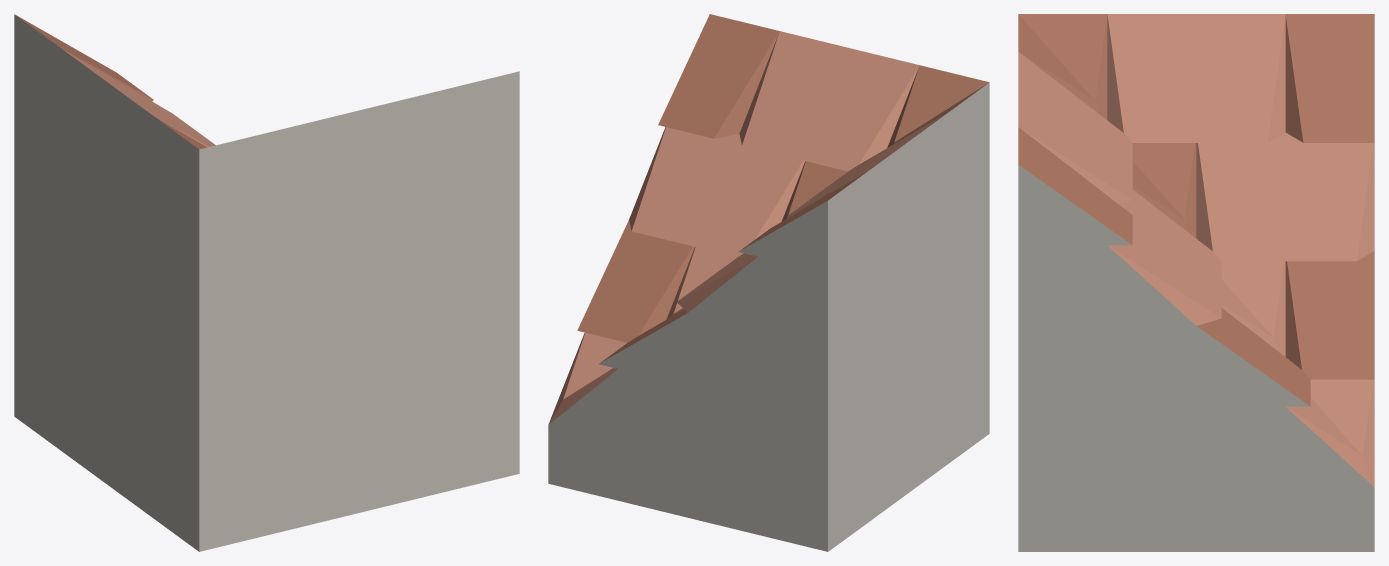
File: Roof_Straight_Corner_Inner.glb
The picture shows the model from 3 angles, left to right: view 1: azimuth 30°, elevation 25°; view 2: azimuth 150°, elevation 25°; view 3: azimuth 270°, elevation 25°; orthographic projection. The views are drawn at different scales.
Parts seen in each view (by area): view 1: object1; view 2: object1; view 3: object1.
Boxes of the visible parts, x1=… form: object1: x1=14, y1=14, x2=519, y2=551; object1: x1=548, y1=14, x2=989, y2=551; object1: x1=1018, y1=14, x2=1374, y2=551.
Size of the model in its own units: 1 by 1.2 by 1.
